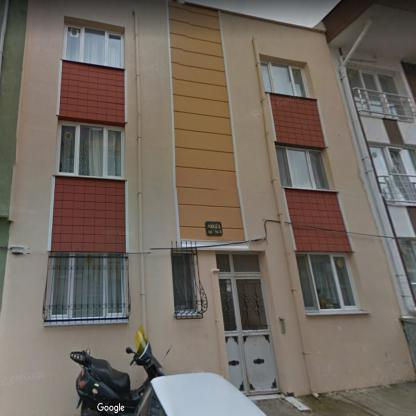door: (218, 276, 281, 394)
window: (48, 253, 126, 322), (56, 118, 124, 176), (295, 252, 356, 310), (348, 69, 407, 119), (274, 144, 329, 190), (369, 146, 414, 201), (63, 24, 123, 65), (260, 58, 310, 98), (171, 250, 196, 316), (217, 254, 260, 276)
